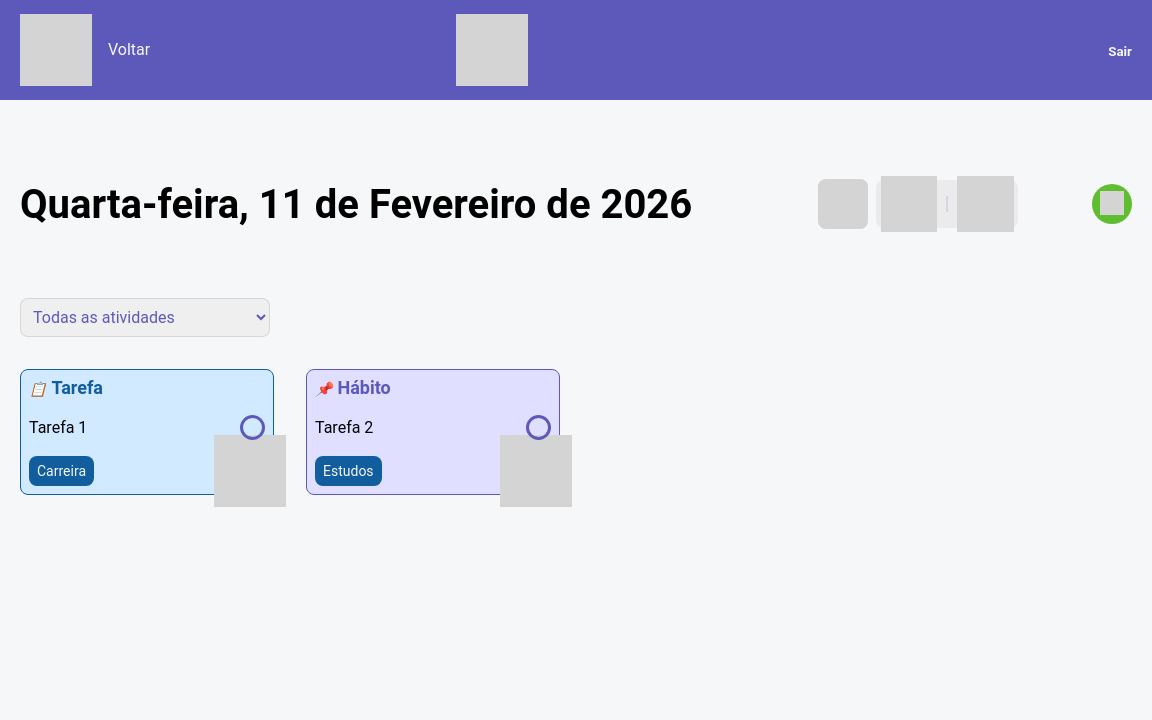
Test: <DashboardContainer/> › should open a small modal showing the task types when clicking the "add task" icon
This screenshot has width=1152, height=720.
Click the button named "icone para adicionar nova tarefa ou hábito" in the row of "2026".
click(1112, 204)  # box [1092,184,1132,224]
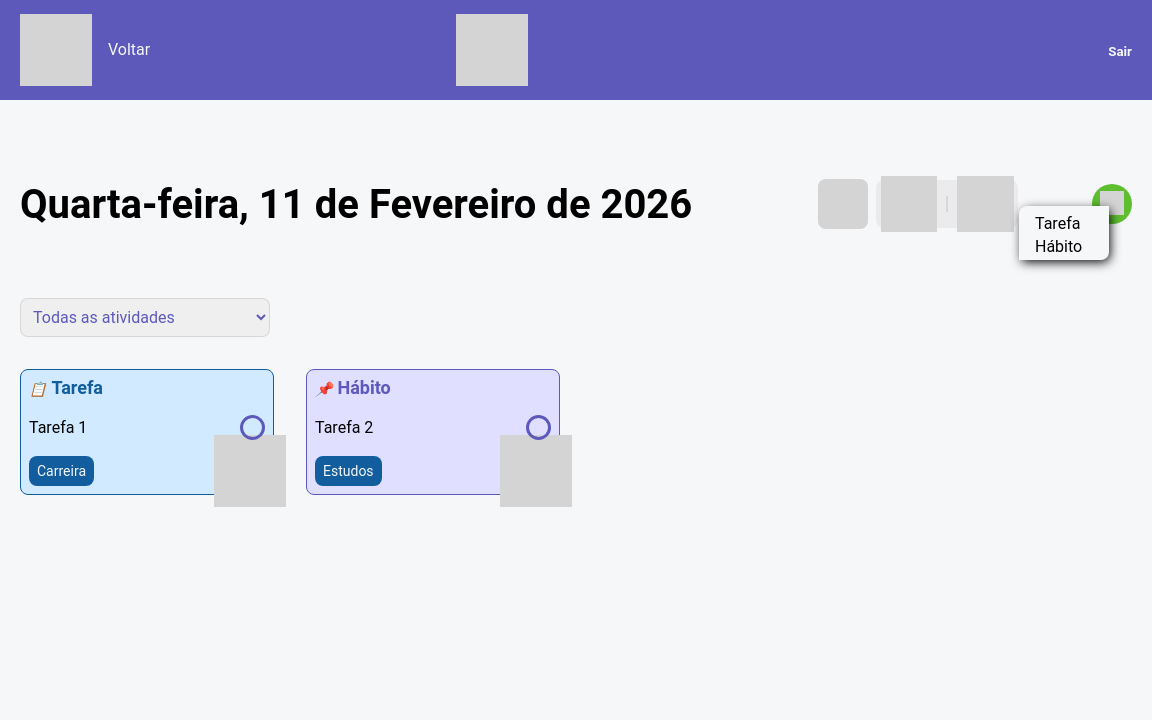
Expected: the element with test id "container-type-task" is shown, [1019,206,1109,260]
Expected: the text "Tarefa" is shown, [1035,214,1080,233]
Expected: the text "Hábito" is shown, [1035,237,1082,256]
